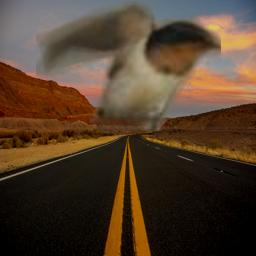Swallow: (36, 1, 221, 131)
